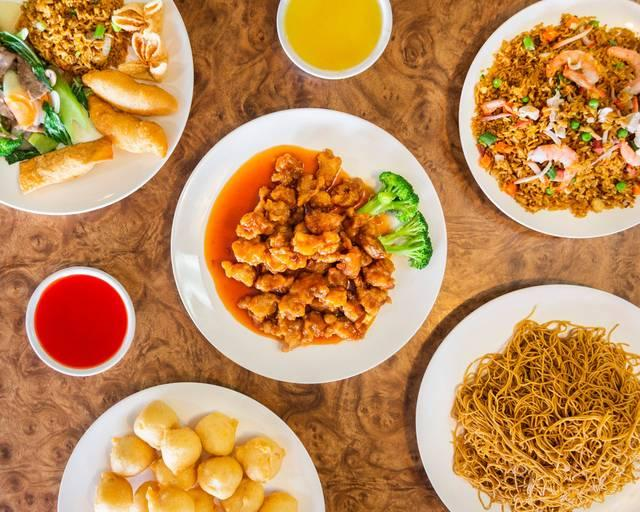Braised Crucian Carp: (172, 107, 442, 381), (415, 283, 640, 510), (457, 2, 637, 239), (2, 1, 194, 217), (56, 381, 325, 509)
